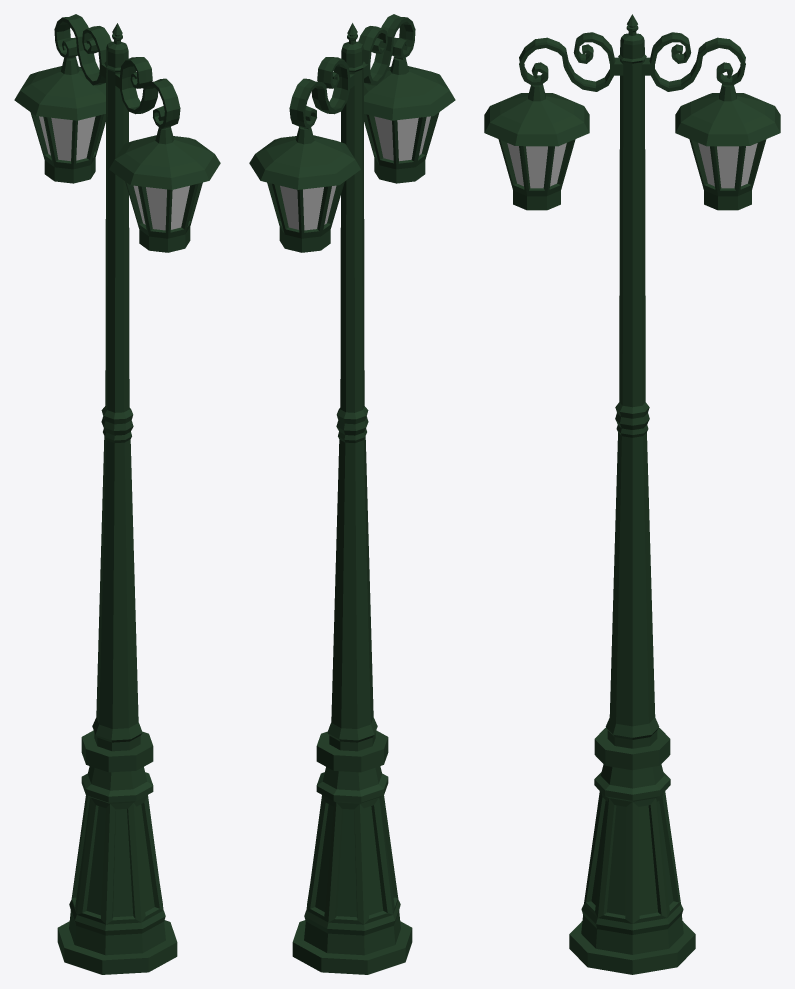
Rendered from streetlight-double-e21b4adc2f.glb.
The picture shows the model from 3 angles, left to right: view 1: azimuth 30°, elevation 25°; view 2: azimuth 150°, elevation 25°; view 3: azimuth 270°, elevation 25°; orthographic projection.
Parts seen in each view (by area): view 1: Streetlight_Double.obj; view 2: Streetlight_Double.obj; view 3: Streetlight_Double.obj.
Part boxes in pixels (left/top/right/bottom): Streetlight_Double.obj: left=14, top=14, right=220, bottom=974; Streetlight_Double.obj: left=249, top=14, right=455, bottom=974; Streetlight_Double.obj: left=484, top=14, right=780, bottom=974.
Bounding box in the file's own units: 0.1317 × 1.1 × 0.3157.
